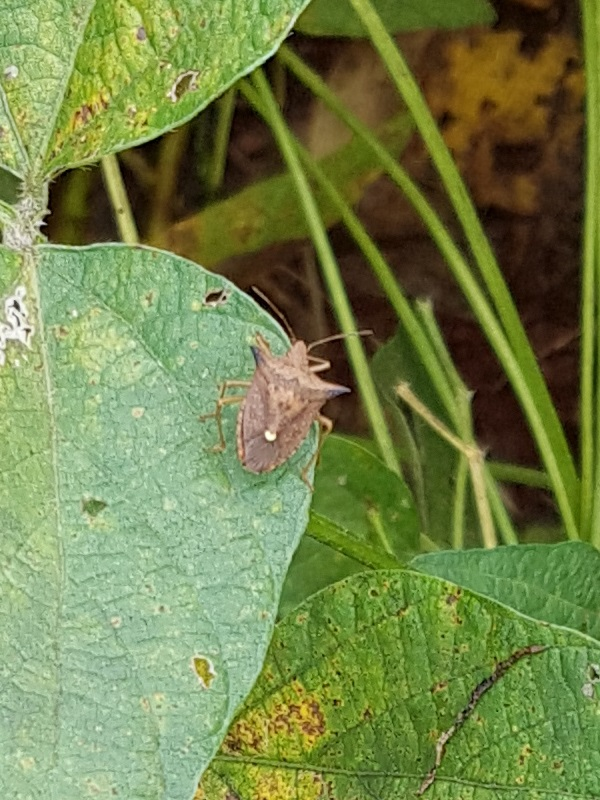Euschistus_heros_adulto: (198, 279, 376, 501)
